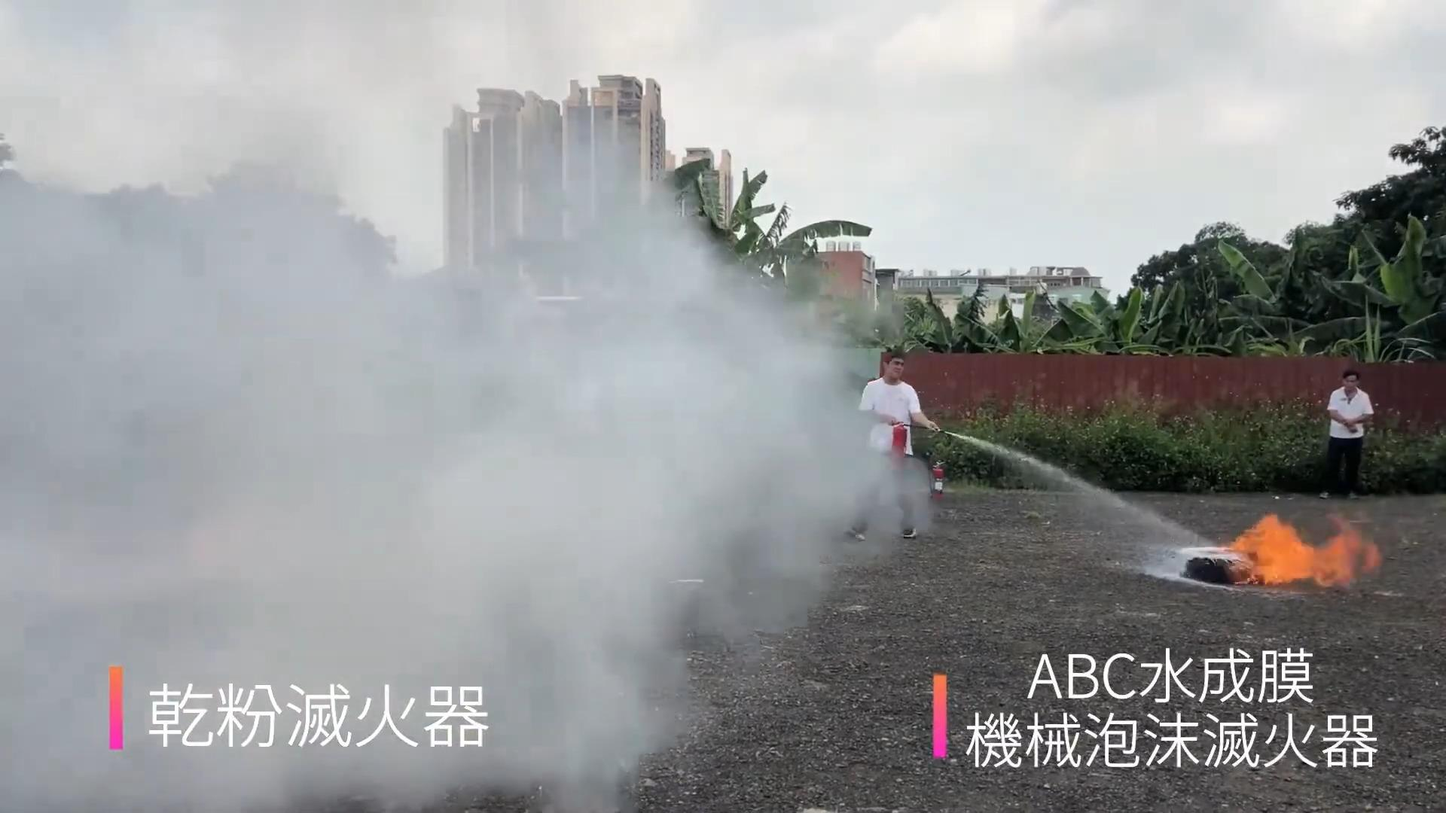FireExtinguisher: (887, 411, 911, 478), (927, 456, 952, 517)
not: (942, 349, 1285, 411), (1196, 507, 1390, 610), (804, 232, 885, 313), (95, 659, 135, 758), (927, 670, 958, 767)
